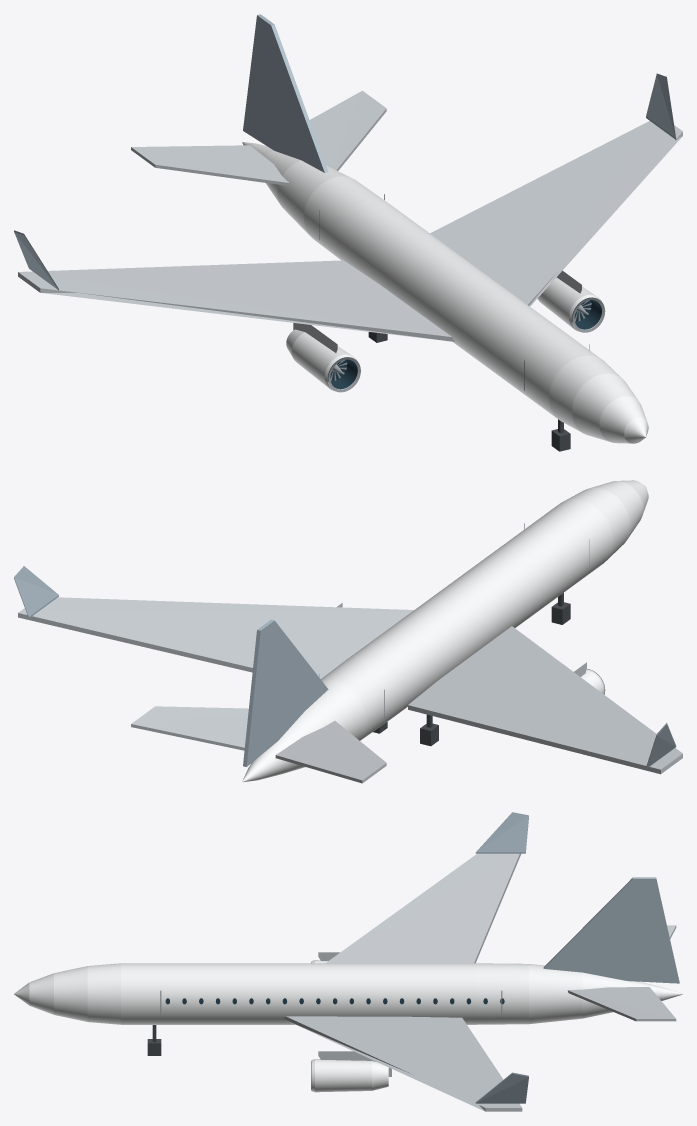
Rendered from a220-neutral-v2.gltf.
3 renders of one model, top to bottom at view 1: azimuth 30°, elevation 25°; view 2: azimuth 150°, elevation 25°; view 3: azimuth 270°, elevation 25°, orthographic. The views are drawn at different scales.
Parts seen in each view (by area): view 1: object 1; view 2: object 1, Gear; view 3: object 1.
Boxes of the visible parts, x1,y1,x2,y2 form: object 1: [14, 14, 682, 443]; object 1: [14, 480, 682, 783]; Gear: [373, 593, 570, 746]; object 1: [14, 812, 682, 1111].
Bounding box in the file's own units: 35 × 11.01 × 38.
